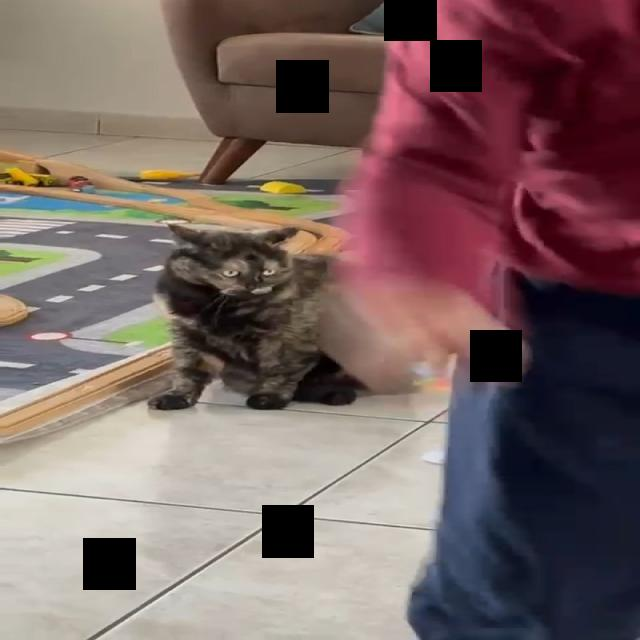authorized: (145, 221, 344, 411)
